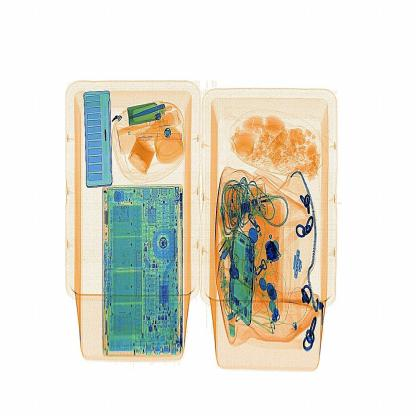scissors: (264, 231, 288, 271)
